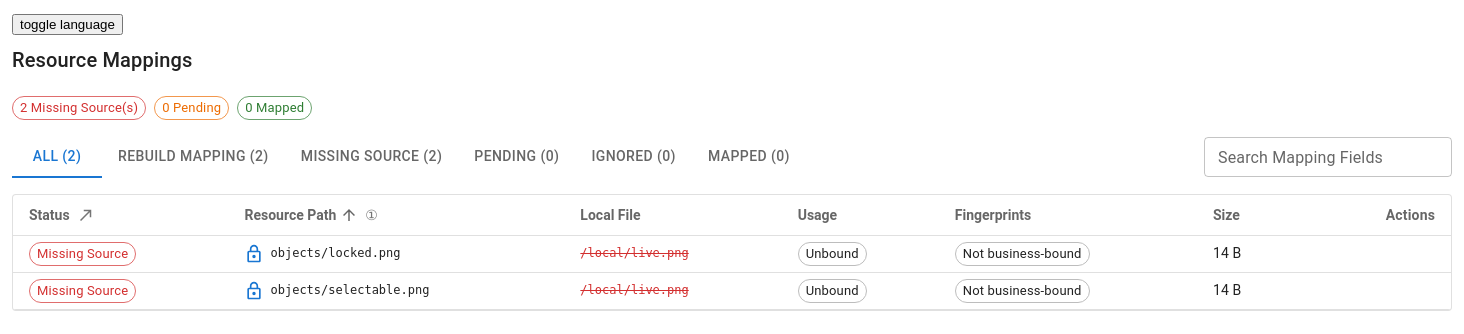
selects and clears all selectable rows even when the tab contains a non-selectable row
The width and height of the screenshot is (1464, 334).
Expected: the table is shown, [13,194,1451,310]
Click the tab "Missing Source (2)": (372, 157) [285,136,458,178]
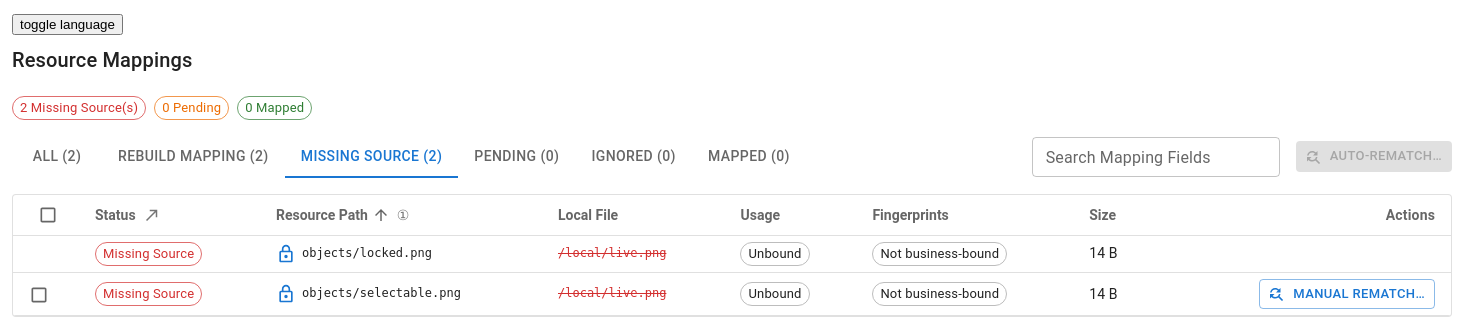
Click the checkbox named "Select All": (48, 214) [38,204,58,224]
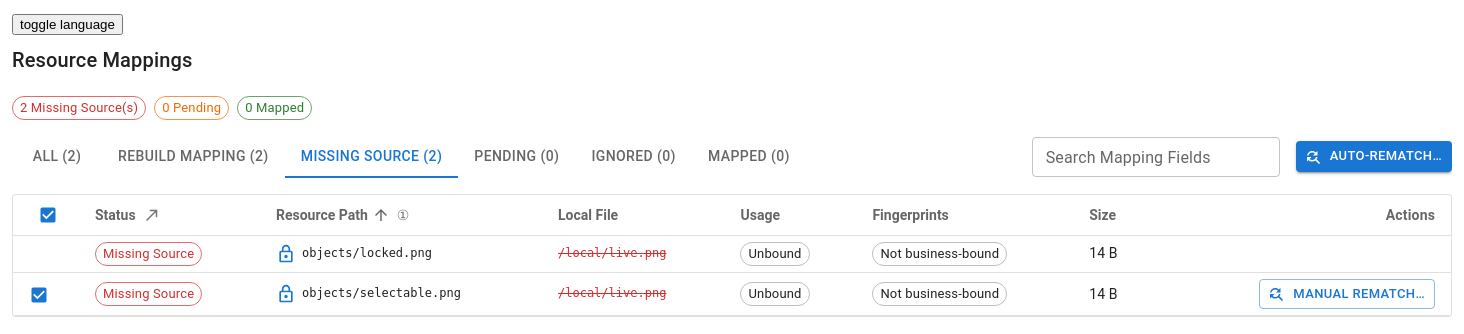
Expected: the checkbox named "Select All" is checked
Expected: the checkbox named "Select objects/selectable.png to rematch" is checked, [29,284,49,304]
Click the checkbox named "Select All": (48, 214) [38,204,58,224]
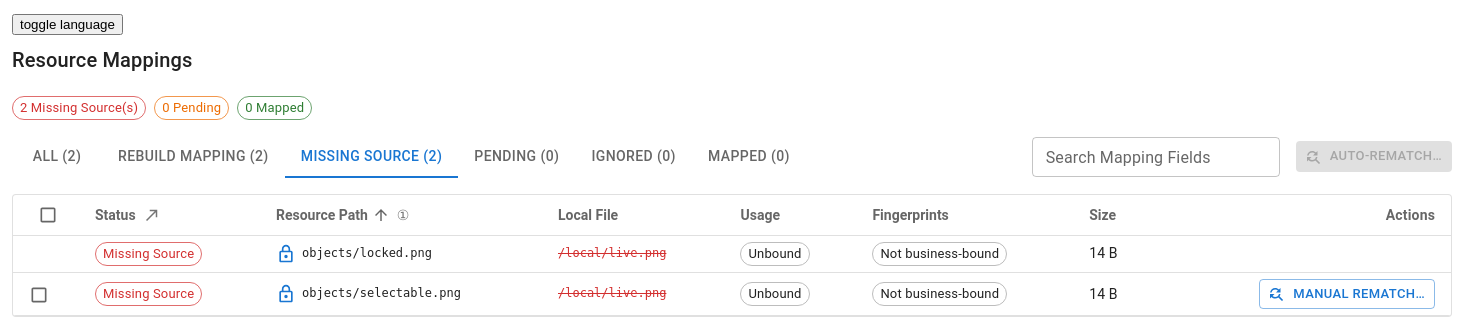
Expected: the checkbox named "Select objects/selectable.png to rematch" is not checked, [29,284,49,304]
